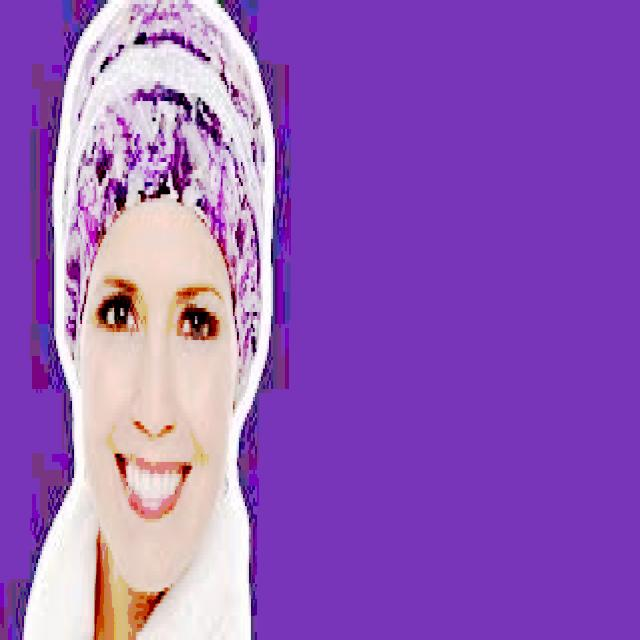TOPI: (46, 0, 283, 413)
